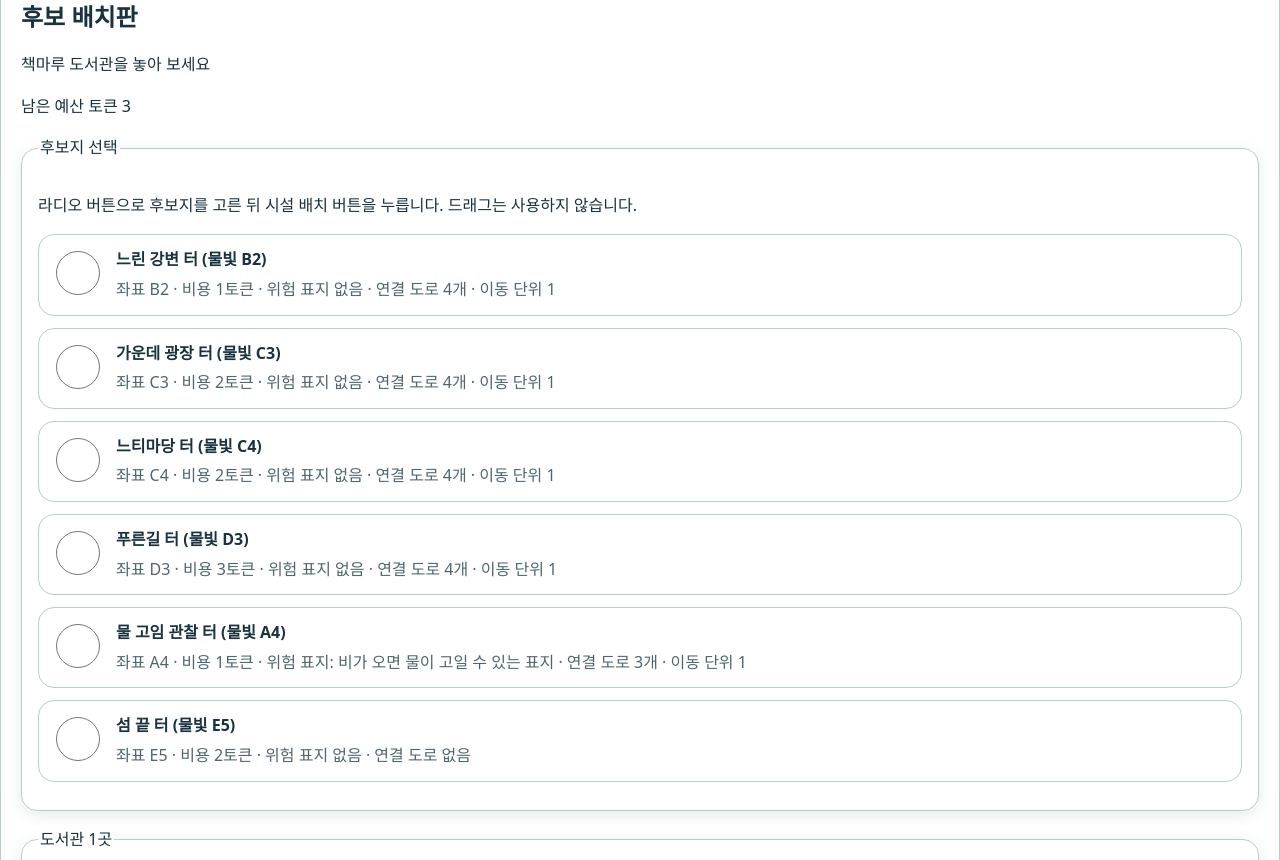
FacilityPlacementPanel › places a facility through candidate selection and a named button
Click the 1st radio button: click(78, 274) [56,252,100,296]
(page scrolled)
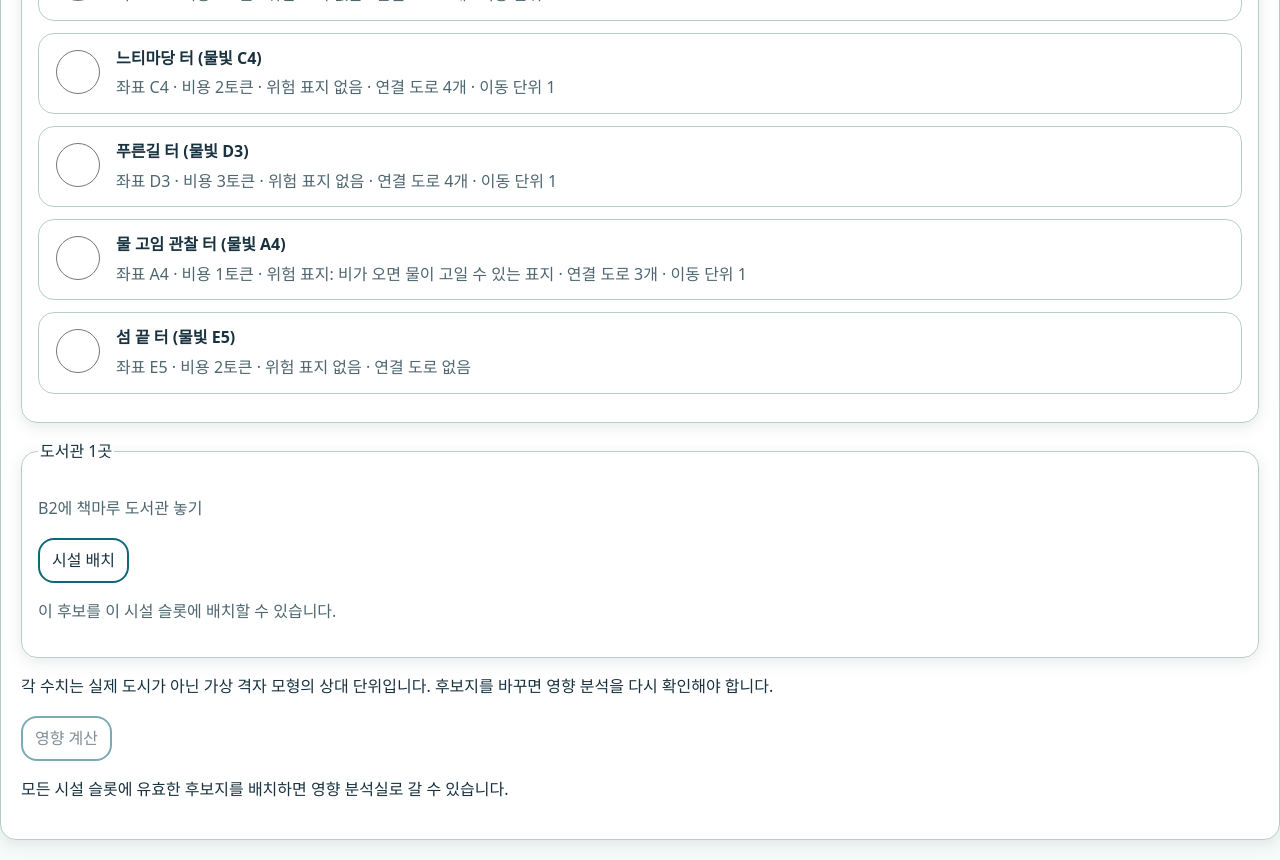
Click the button "시설 배치": click(84, 561) [38,538,129,583]
(page scrolled)
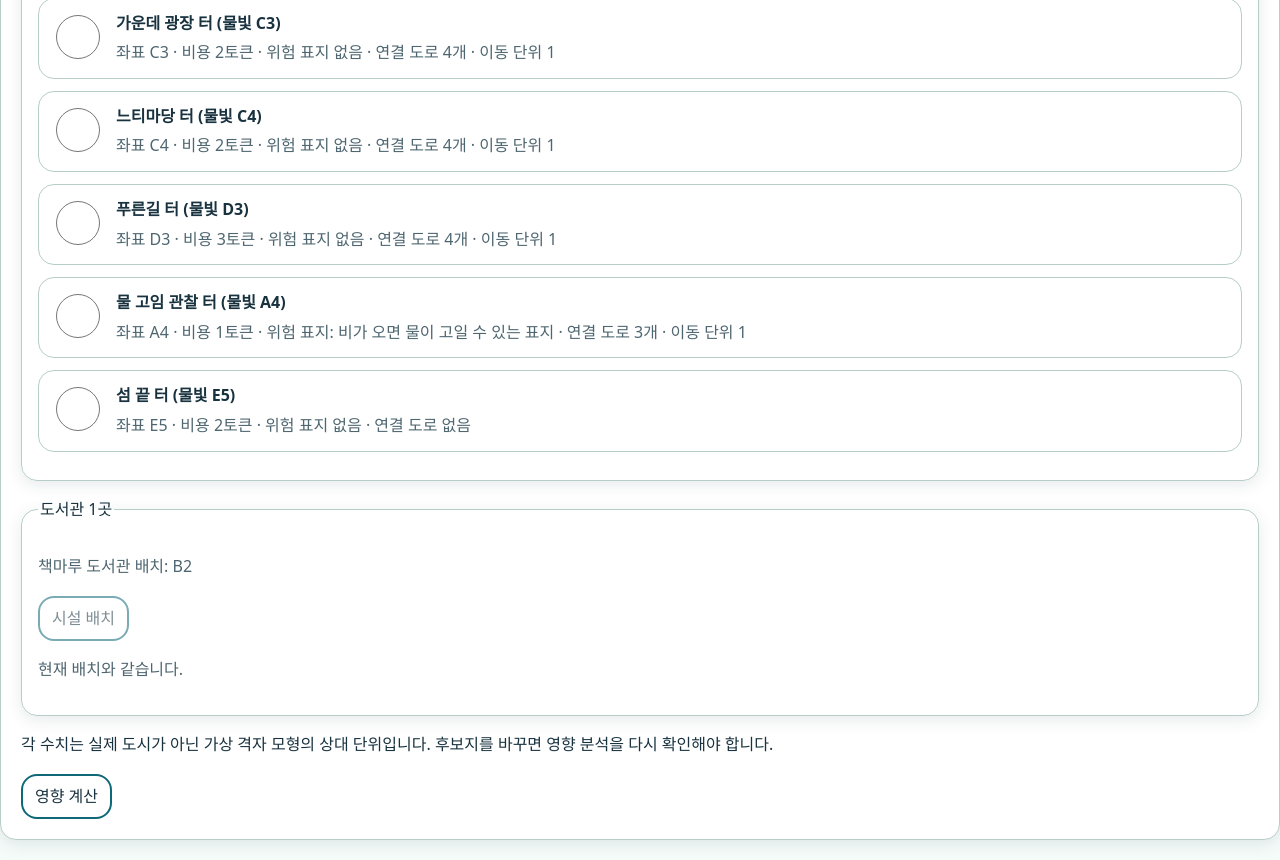
Now the text "책마루 도서관 배치: B2" is shown, box [38,555,192,577]
